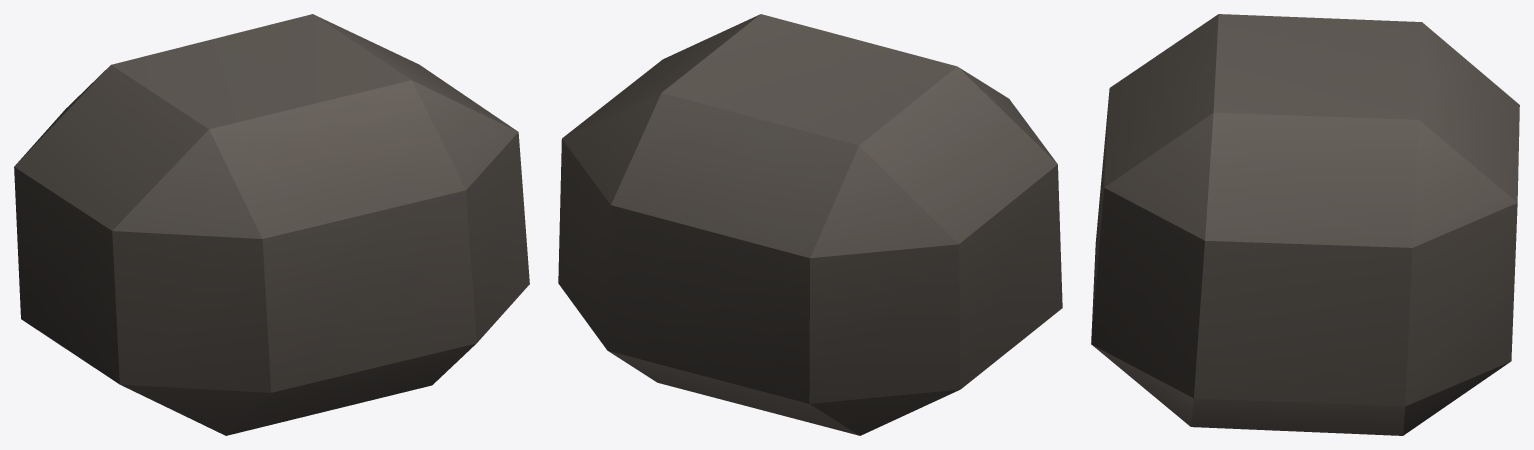
File: Pebble_A.fbx
The picture shows the model from 3 angles, left to right: view 1: azimuth 30°, elevation 25°; view 2: azimuth 150°, elevation 25°; view 3: azimuth 270°, elevation 25°; orthographic projection. The views are drawn at different scales.
Visible parts, largest first — view 1: Pebble_A; view 2: Pebble_A; view 3: Pebble_A.
Part boxes in pixels (box(x1,y1,x2,y2)): Pebble_A: box(14, 14, 529, 435); Pebble_A: box(558, 14, 1062, 435); Pebble_A: box(1091, 14, 1519, 435).
Bounding box in the file's own units: 6.06 × 4.37 × 5.31.
